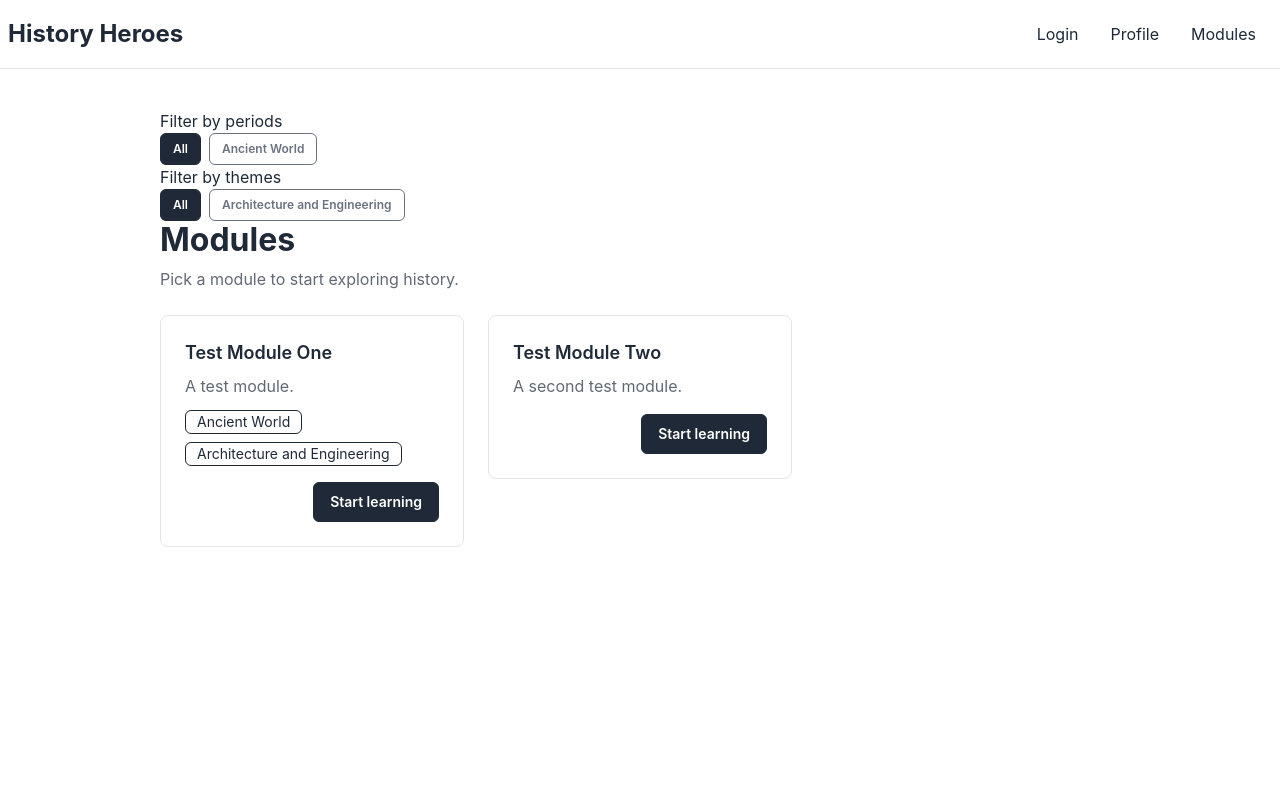
it: opens the second module when it is selected
Click the link "Start learning" below "A second test module.".
click(704, 434)  # box [641,414,767,454]
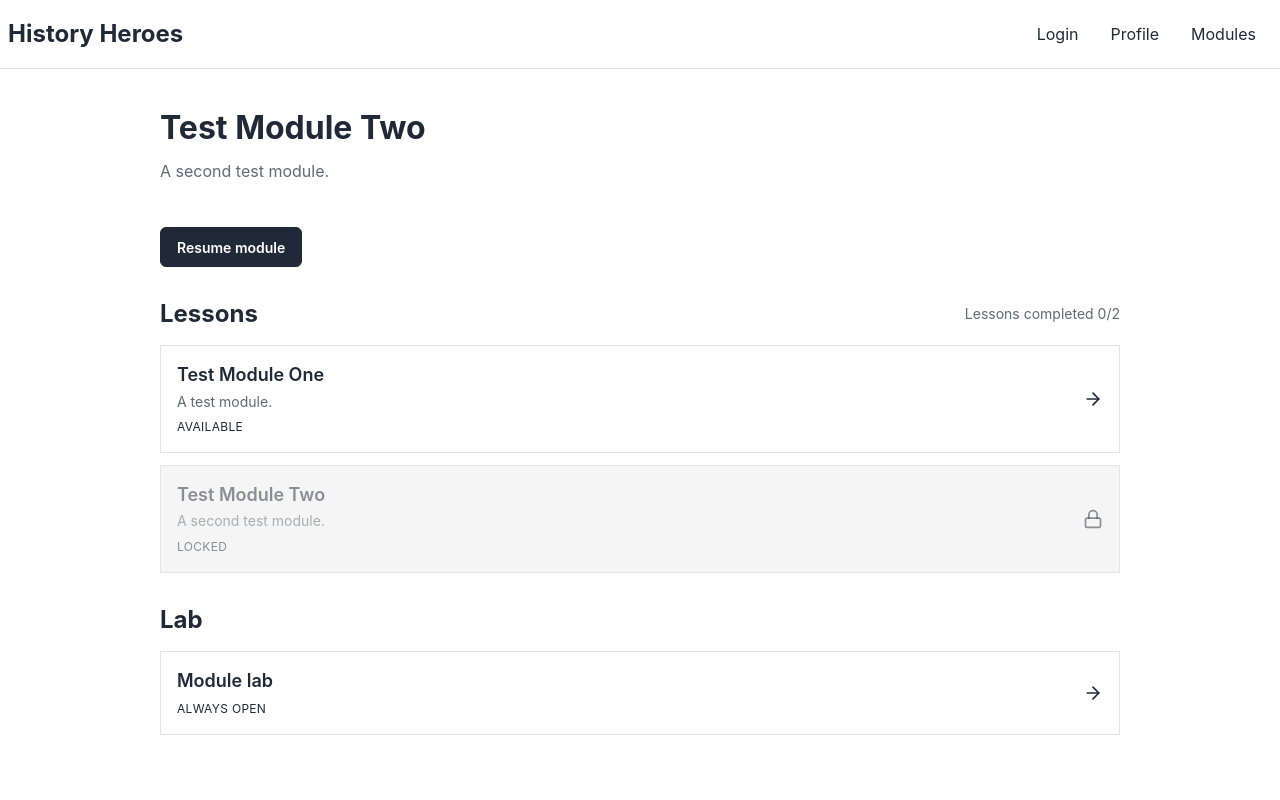
Result: the 1st heading "Test Module Two" is shown at [160,108,426,147]
